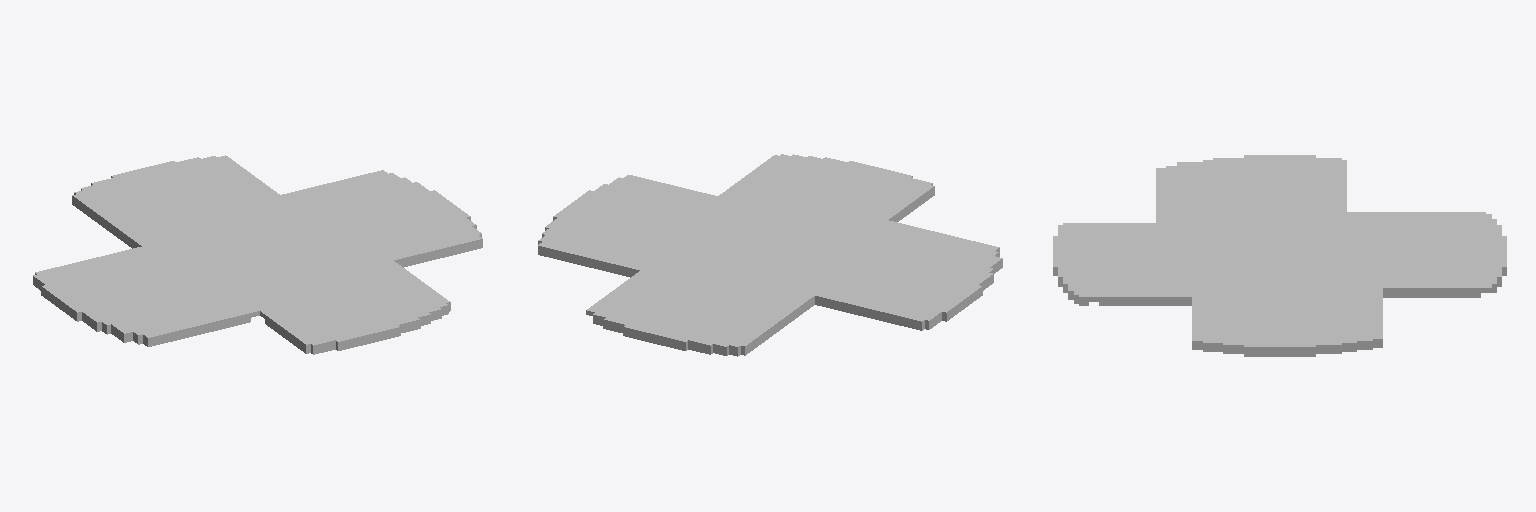
Rendered from 2 лвл-10.obj.
3 renders of one model, left to right at view 1: azimuth 30°, elevation 25°; view 2: azimuth 150°, elevation 25°; view 3: azimuth 270°, elevation 25°, orthographic.
Visible parts, largest first — view 1: object 1; view 2: object 1; view 3: object 1.
Part boxes in pixels (x1,y1,x2,y2): object 1: (33, 155, 482, 354); object 1: (538, 154, 1002, 356); object 1: (1053, 155, 1506, 356).
Bounding box in the file's own units: 8.8 × 0.2 × 8.8.